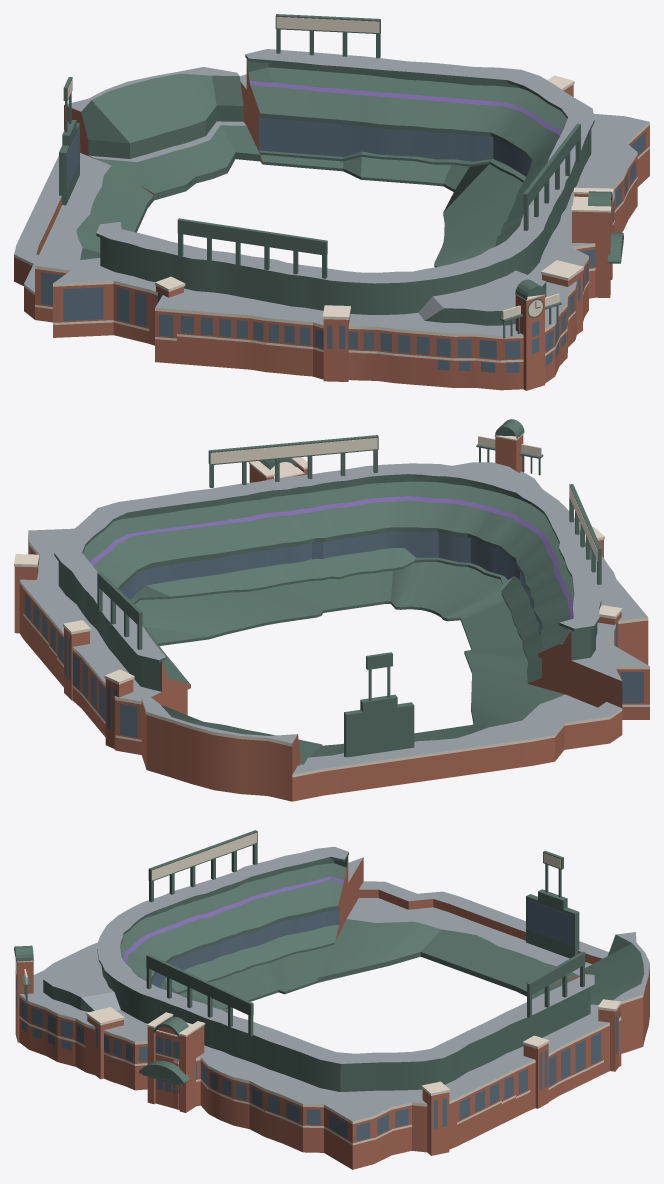
Rendered from den-coors-field.glb.
3 views of the same model, one above another, from view 1: azimuth 30°, elevation 25°; view 2: azimuth 150°, elevation 25°; view 3: azimuth 270°, elevation 25° (orthographic). The views are drawn at different scales.
Visible parts, largest first — view 1: Coors Field; view 2: Coors Field; view 3: Coors Field.
Boxes of the visible parts, x1=… form: Coors Field: x1=14, y1=14, x2=649, y2=390; Coors Field: x1=14, y1=419, x2=649, y2=801; Coors Field: x1=14, y1=830, x2=649, y2=1169.
Bounding box in the file's own units: 284 × 55.5 × 286.
